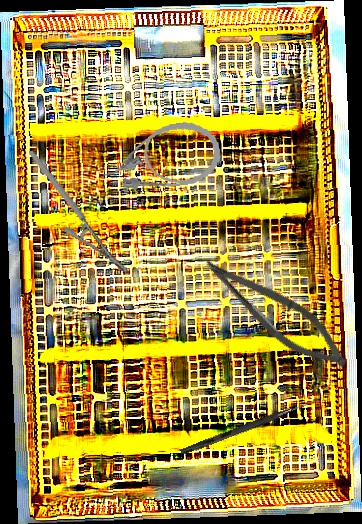Cannula: (97, 118, 224, 196)
Hook Surgical: (179, 394, 320, 458)
Micro Scissor: (189, 248, 360, 380)
Needle Holder: (28, 133, 129, 289)
